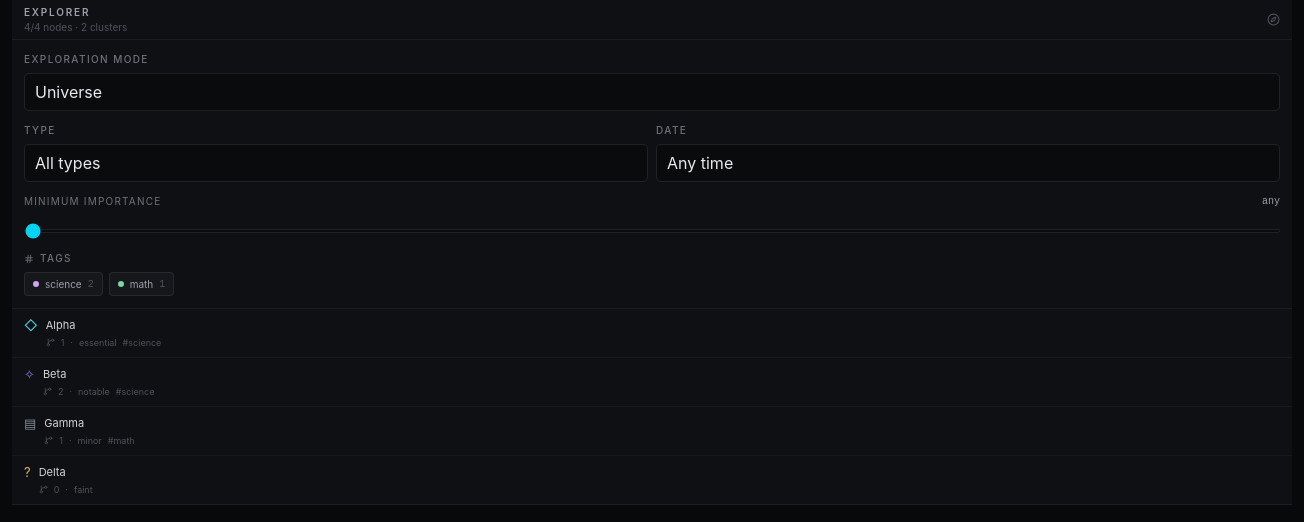
Scenario: ExplorerPanel › restricts results to isolated nodes in isolated mode
The width and height of the screenshot is (1304, 522).
Select "Isolated" in the dropdown labelled "Exploration mode": point(652, 92) x1=24 y1=73 x2=1280 y2=111
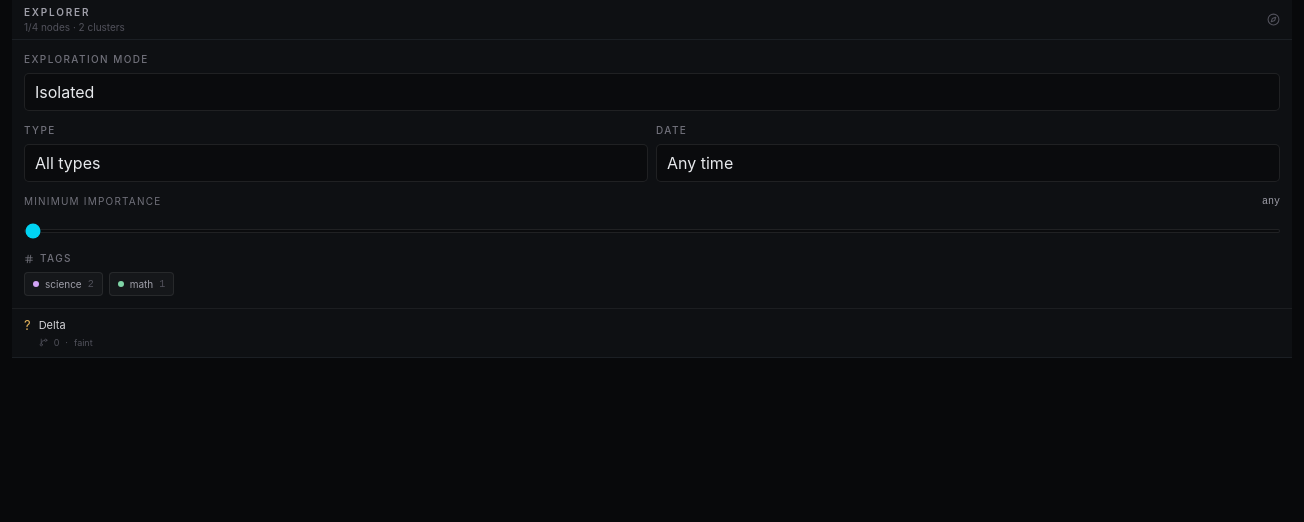
Expected: the button "? Delta 0 · faint" is shown, x1=12 y1=309 x2=1292 y2=357
Now the text "1/4 nodes · 2 clusters" is shown, box x1=24 y1=20 x2=125 y2=32
Now the button "Alpha" is gone
